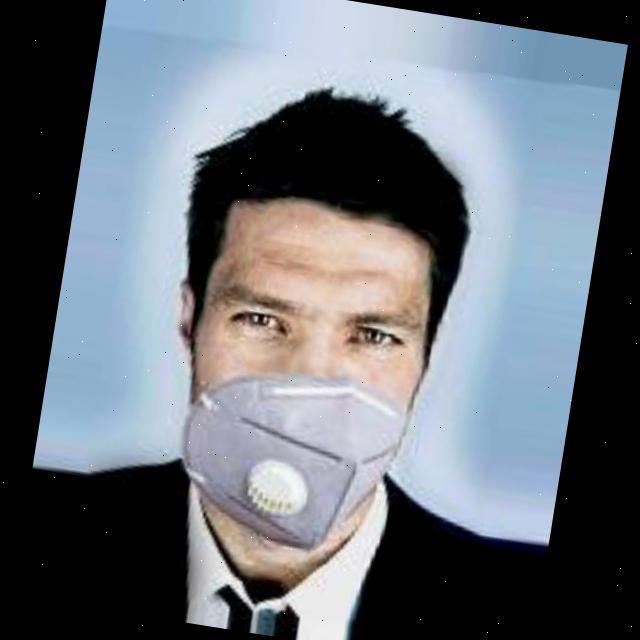suspicion: (90, 71, 524, 566)
